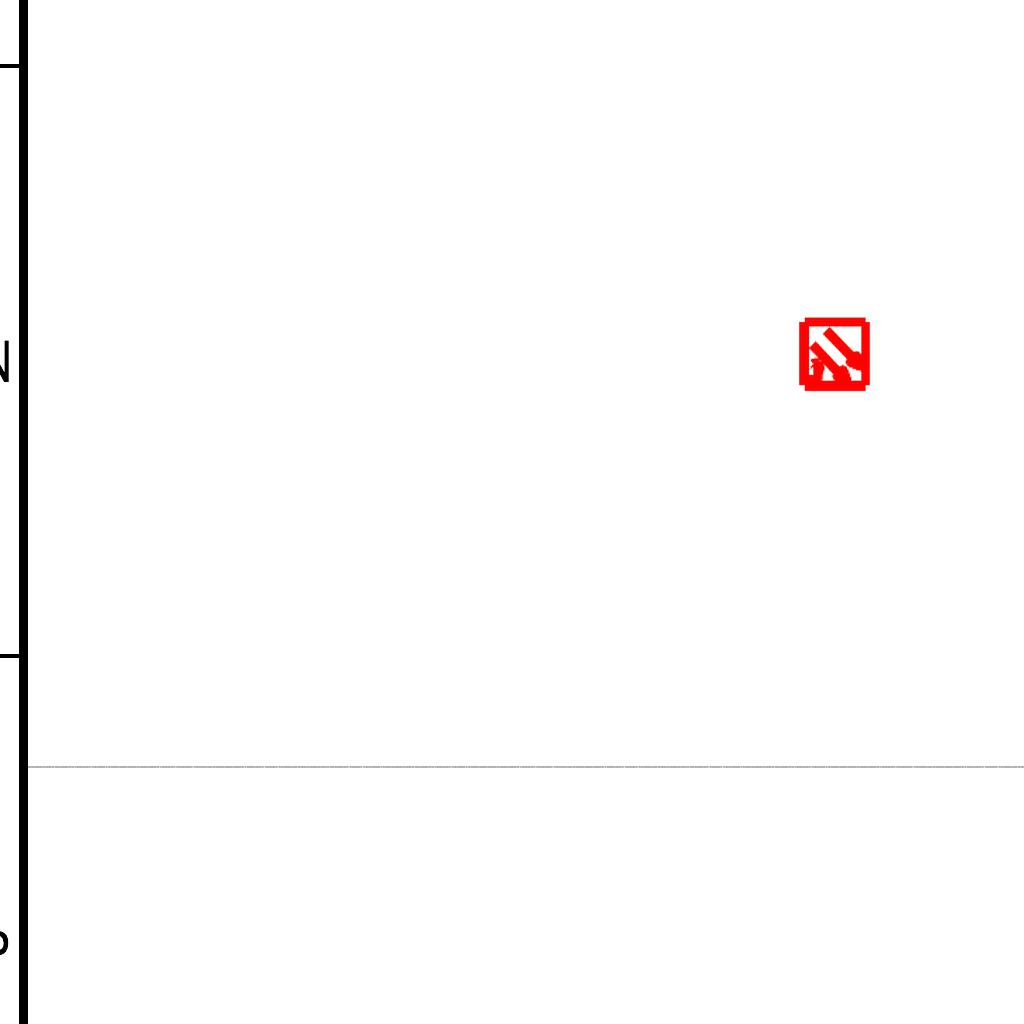OT_Multisensormelder_(Kombination_RMO_WMD): (778, 300, 891, 413)
